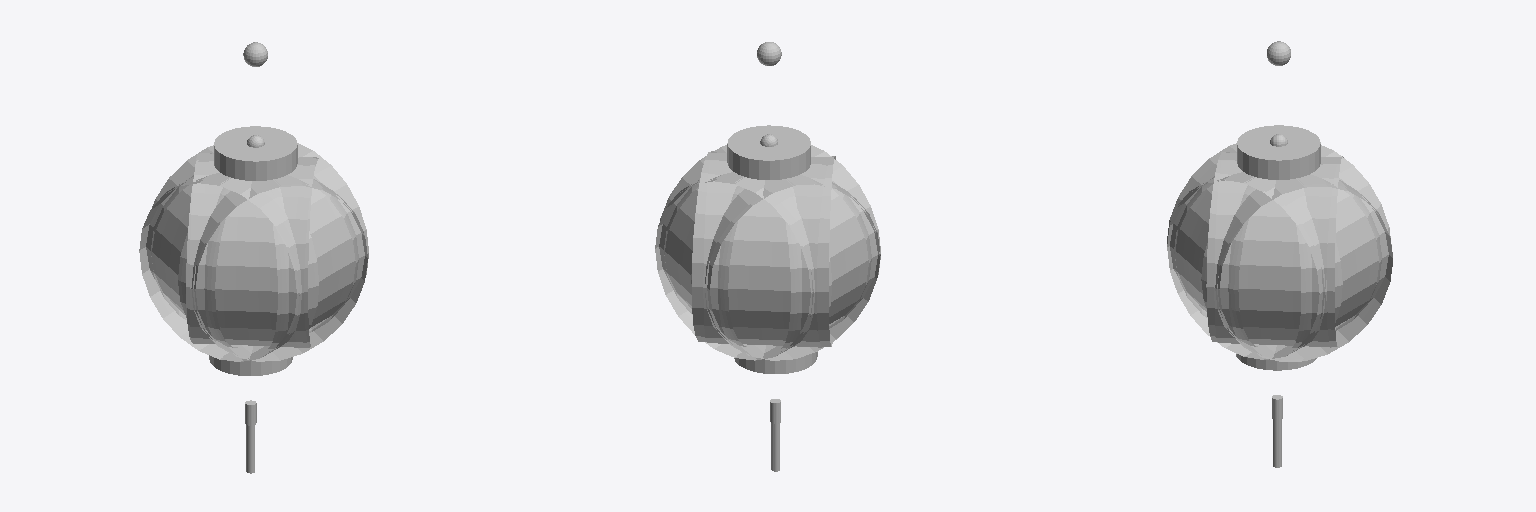
The model's file is lantern.001.obj.
3 views of the same model, side by side, from view 1: azimuth 30°, elevation 25°; view 2: azimuth 150°, elevation 25°; view 3: azimuth 270°, elevation 25° (orthographic).
Visible parts, largest first — view 1: lantern.001_3d-model.001; view 2: lantern.001_3d-model.001; view 3: lantern.001_3d-model.001.
Part boxes in pixels (x1,y1,x2,y2): lantern.001_3d-model.001: (139,42,368,473); lantern.001_3d-model.001: (655,42,880,471); lantern.001_3d-model.001: (1167,41,1392,467).
Size of the model in its own units: 0.2315 by 0.5187 by 0.2502.